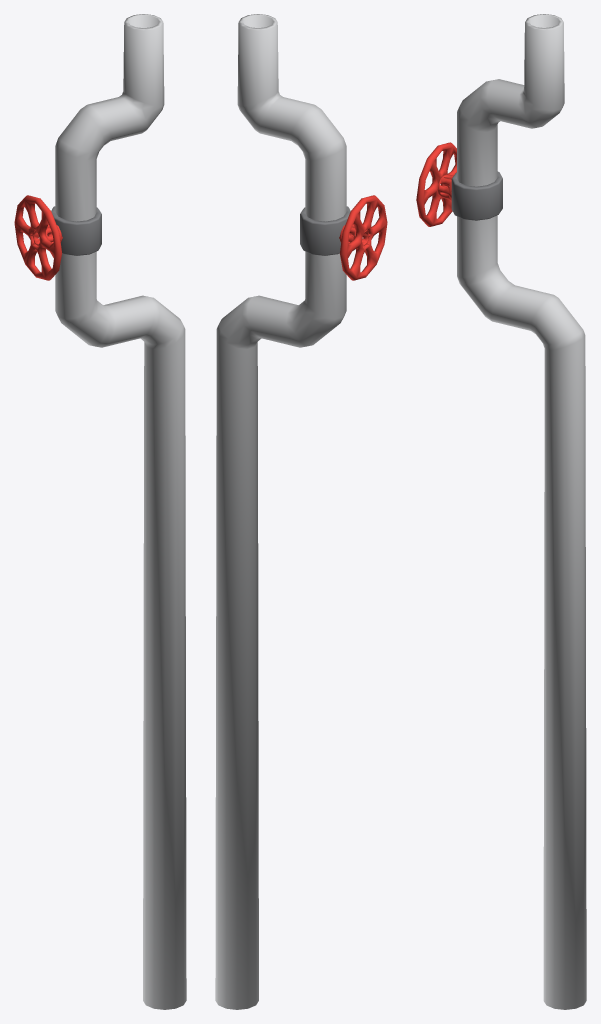
Rendered from MetalPipe.fbx.
3 views of the same model, side by side, from view 1: azimuth 30°, elevation 25°; view 2: azimuth 150°, elevation 25°; view 3: azimuth 330°, elevation 25° (orthographic).
Visible parts, largest first — view 1: MetalPipe; view 2: MetalPipe; view 3: MetalPipe.
Boxes of the visible parts, x1=… form: MetalPipe: x1=14, y1=14, x2=186, y2=1009; MetalPipe: x1=215, y1=14, x2=387, y2=1009; MetalPipe: x1=416, y1=14, x2=586, y2=1009.
Size of the model in its own units: 0.2369 by 1.5 by 0.1219.
1 material, 1 textured.
